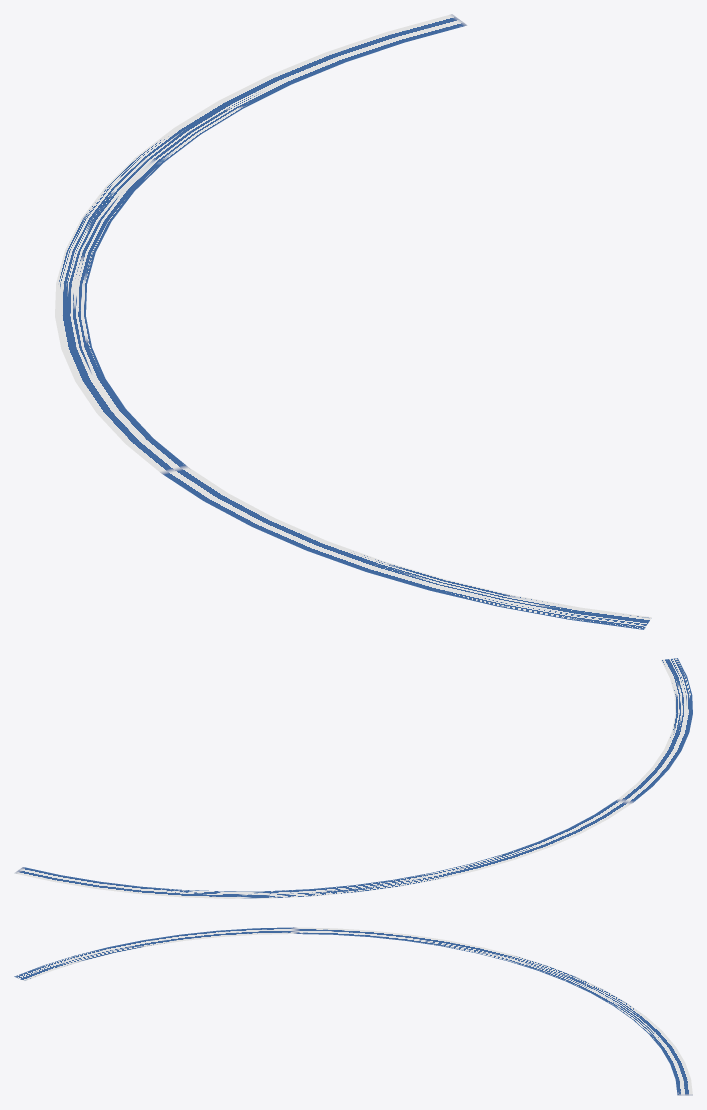
File: Hi_Spl_Hekira_07.fbx
3 views of the same model, one above another, from view 1: azimuth 30°, elevation 25°; view 2: azimuth 150°, elevation 25°; view 3: azimuth 270°, elevation 25° (orthographic). The views are drawn at different scales.
Visible parts, largest first — view 1: SM_d_e_P0001_V00_C00_SplHkr_c050_Hekira_07; view 2: SM_d_e_P0001_V00_C00_SplHkr_c050_Hekira_07; view 3: SM_d_e_P0001_V00_C00_SplHkr_c050_Hekira_07.
Boxes of the visible parts, <box> form: SM_d_e_P0001_V00_C00_SplHkr_c050_Hekira_07: <box>55,14,651,629</box>; SM_d_e_P0001_V00_C00_SplHkr_c050_Hekira_07: <box>14,658,692,898</box>; SM_d_e_P0001_V00_C00_SplHkr_c050_Hekira_07: <box>14,927,692,1095</box>.
Bounding box in the file's own units: 150 × 3.14e-14 × 256.
